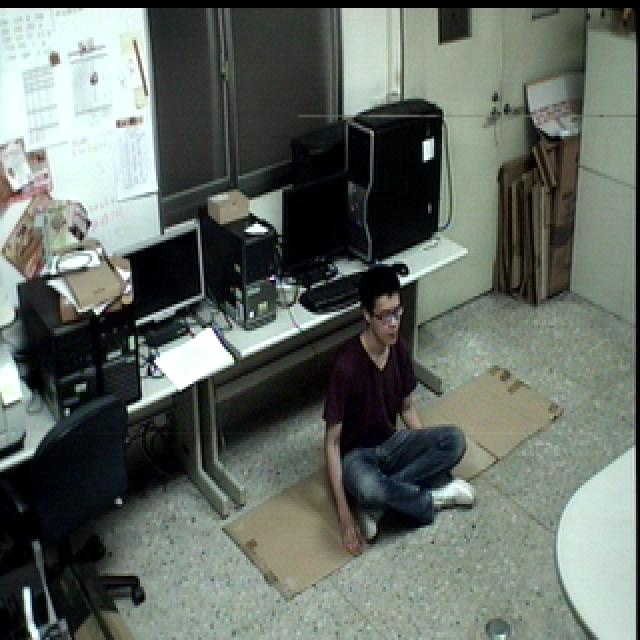sit: (322, 264, 477, 562)
